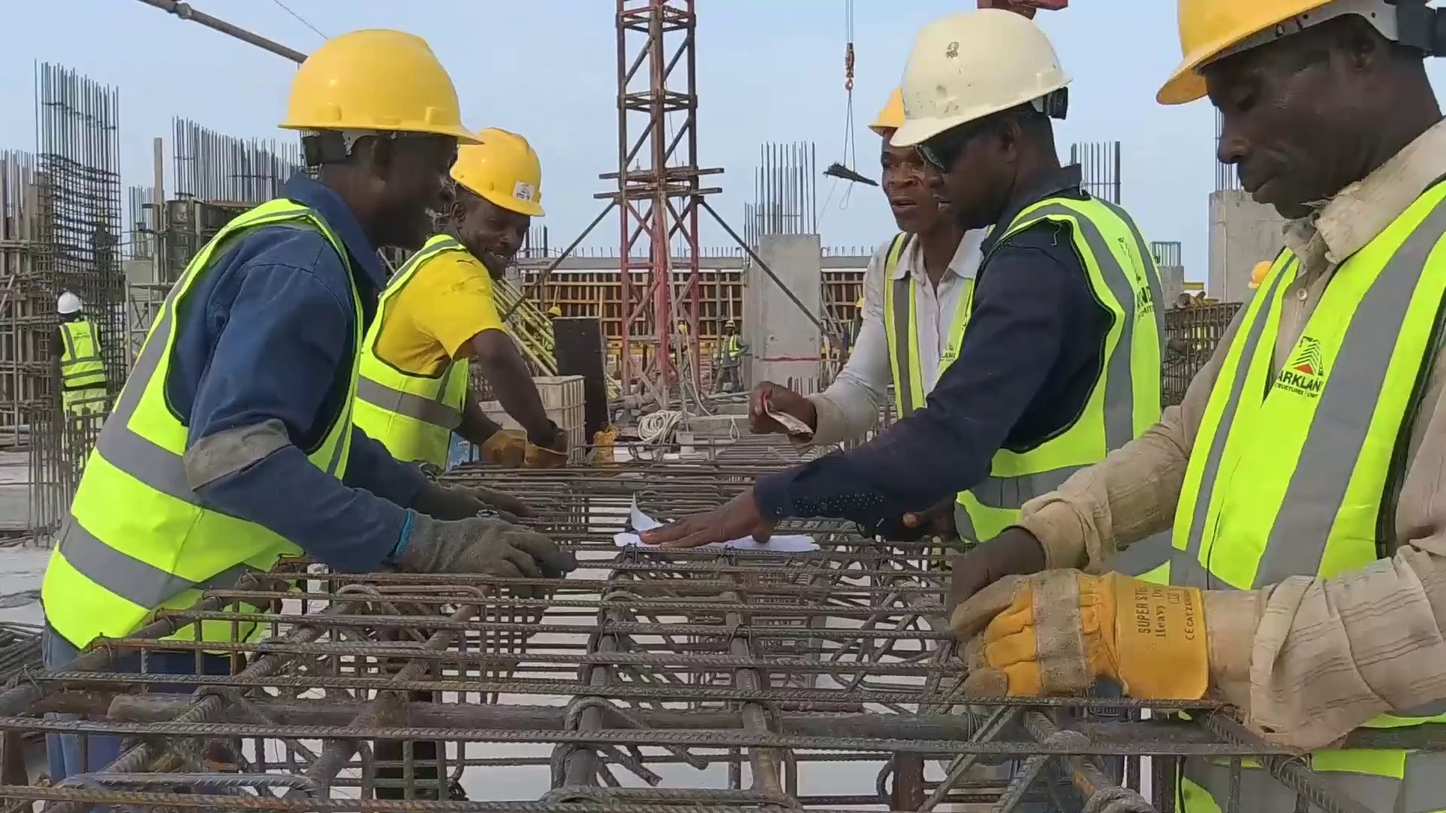helmet: (889, 8, 1074, 148), (278, 29, 490, 148), (1155, 1, 1352, 106), (450, 126, 547, 217), (868, 81, 907, 130), (57, 292, 81, 313)
person: (37, 29, 577, 795), (950, 1, 1446, 813), (636, 8, 1161, 568), (743, 86, 989, 464), (340, 128, 573, 475), (48, 292, 110, 453), (717, 320, 751, 394)
